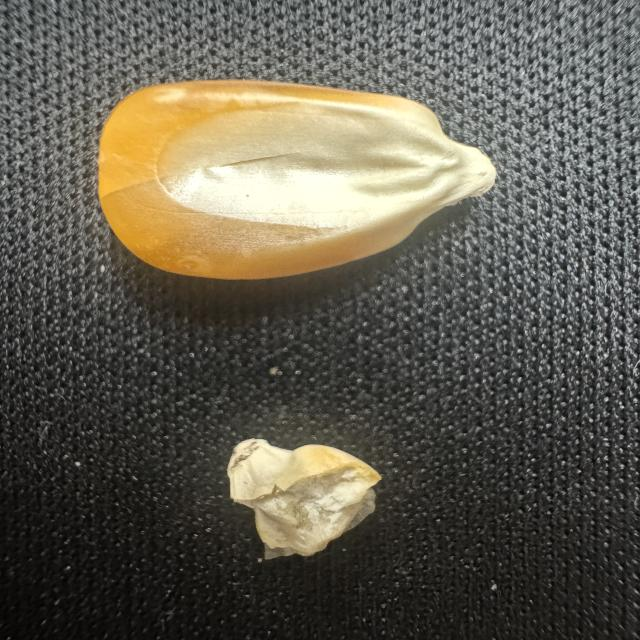Bad-Seed: (216, 419, 399, 577)
Good-Seed: (87, 74, 509, 284)
